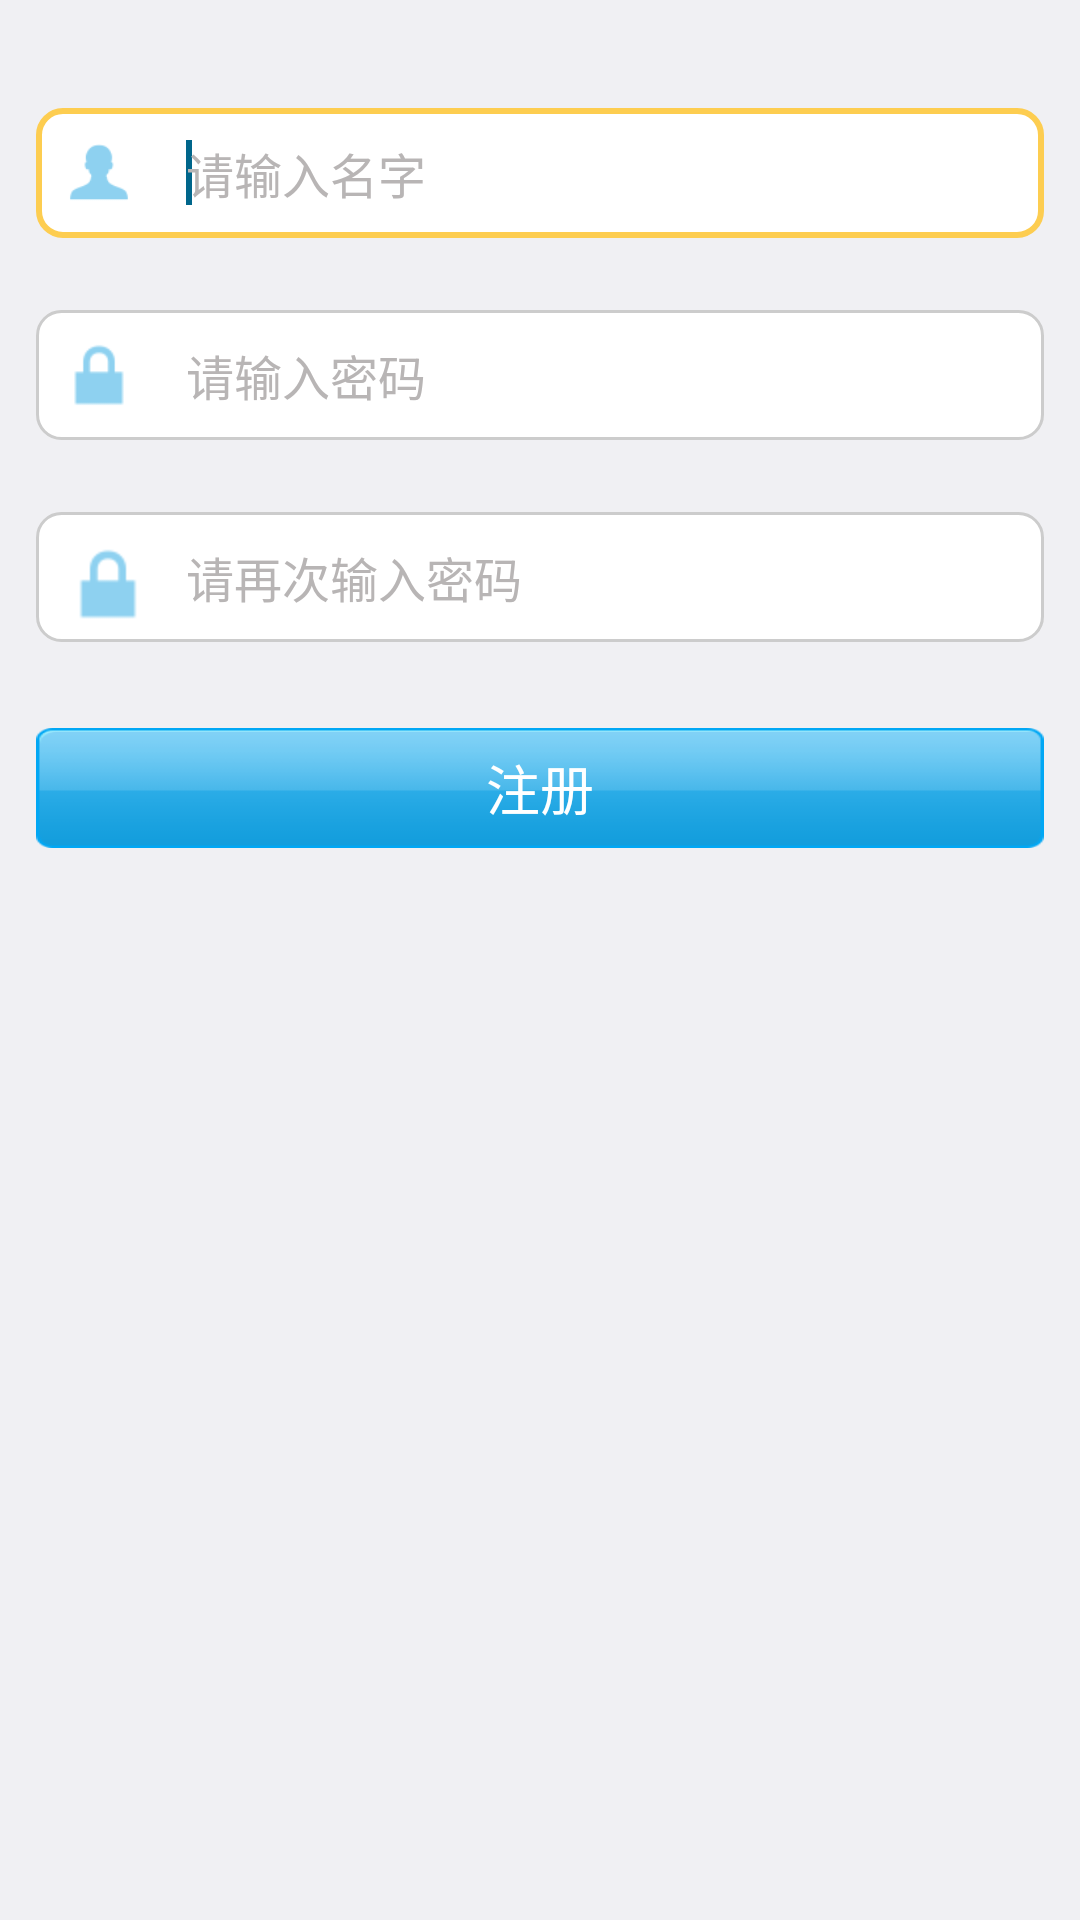

Screen size 1080w x 1920h. Icon name, then its center in pixels as point (x, y):
password: point (99, 375), point (108, 584)
